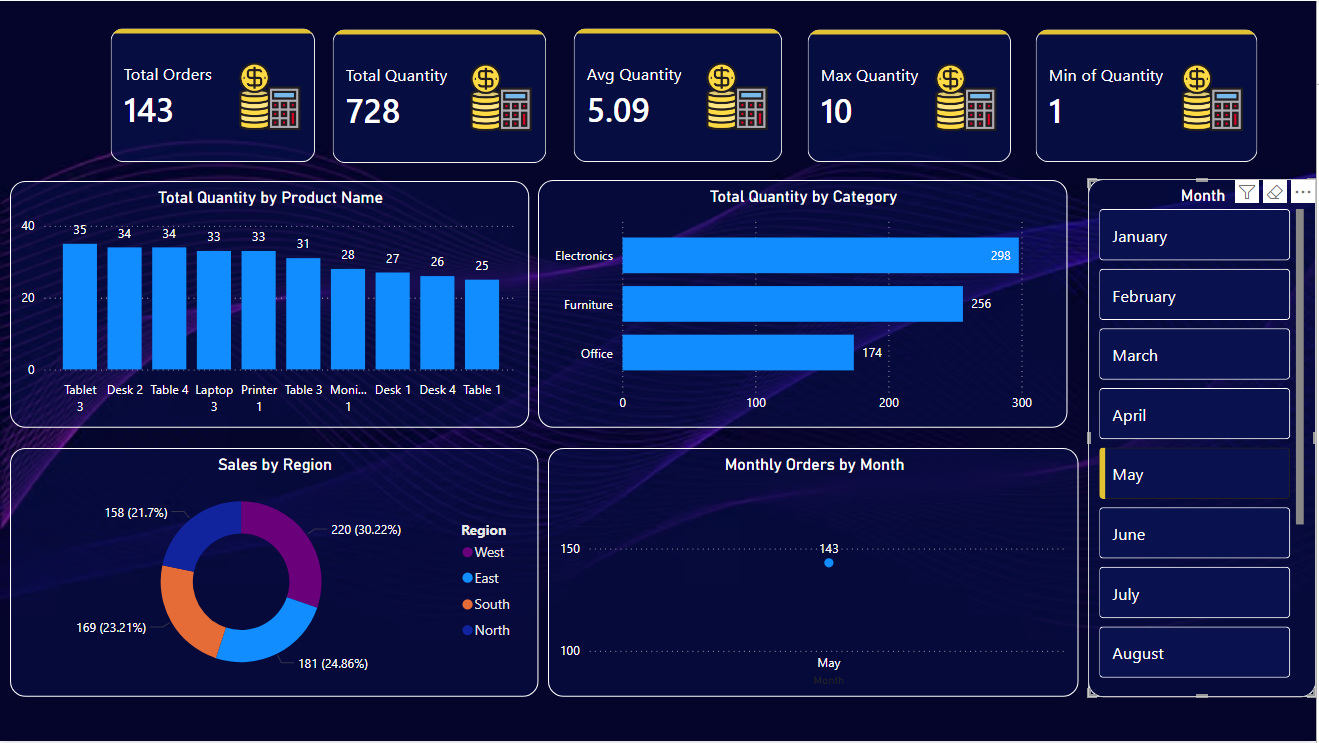

Layout of this report page (visuals, bound fields, positions):
{"tool":"powerbi","page":{"name":"Page 1","canvas":[1280,720],"ordinal":0},"visuals":[{"type":"cardVisual","fields":{"Data":["CountNonNull(Orders.OrderID)"]},"box":[90.5,9.7,233.4,164.4],"z":0},{"type":"cardVisual","fields":{"Data":["Max(Orders.Quantity)"]},"box":[768.4,10.7,232.5,163.4],"z":1000},{"type":"cardVisual","fields":{"Data":["Min(Orders.Quantity)"]},"box":[990.2,10.7,250.9,163.4],"z":2000},{"type":"cardVisual","fields":{"Data":["Sum(Orders.Quantity)"]},"box":[306.4,10.7,242.2,164.4],"z":3000},{"type":"cardVisual","fields":{"Data":["Avg(Orders.Quantity)"]},"box":[540.8,9.7,237.3,164.4],"z":4000},{"type":"clusteredColumnChart","fields":{"Category":["Products.ProductName"],"Y":["Sum(Orders.Quantity)"]},"box":[9.7,175.1,504.8,240.2],"z":5000},{"type":"clusteredBarChart","fields":{"Category":["Products.Category"],"Y":["Sum(Orders.Quantity)"]},"box":[523.3,174.1,514.5,241.2],"z":6000},{"type":"donutChart","fields":{"Category":["Customers.Region"],"Y":["Sum(Orders.Quantity)"]},"box":[9.7,434.8,513.6,242.2],"z":7000},{"type":"areaChart","fields":{"Category":["Orders.OrderDate.Variation.Date Hierarchy.Month"],"Y":["CountNonNull(Orders.OrderID)"]},"box":[533,434.8,516.5,242.2],"z":8000},{"type":"advancedSlicerVisual","fields":{"Values":["Orders.OrderDate.Variation.Date Hierarchy.Month"]},"box":[1058.2,173.1,221.8,503.8],"z":9000}]}

Visuals, with their boxes in screenshot pixels (x1, y1, x2, y2), scaled from the page's 1280x720 canvas onto the 1319x743 screenshot:
cardVisual - CountNonNull(Orders.OrderID): 93,10,334,180
cardVisual - Max(Orders.Quantity): 792,11,1031,180
cardVisual - Min(Orders.Quantity): 1020,11,1279,180
cardVisual - Sum(Orders.Quantity): 316,11,565,181
cardVisual - Avg(Orders.Quantity): 557,10,802,180
clusteredColumnChart - Products.ProductName x Sum(Orders.Quantity): 10,181,530,429
clusteredBarChart - Products.Category x Sum(Orders.Quantity): 539,180,1069,429
donutChart - Customers.Region x Sum(Orders.Quantity): 10,449,539,699
areaChart - Orders.OrderDate.Variation.Date Hierarchy.Month x CountNonNull(Orders.OrderID): 549,449,1081,699
advancedSlicerVisual - Orders.OrderDate.Variation.Date Hierarchy.Month: 1090,179,1318,699
